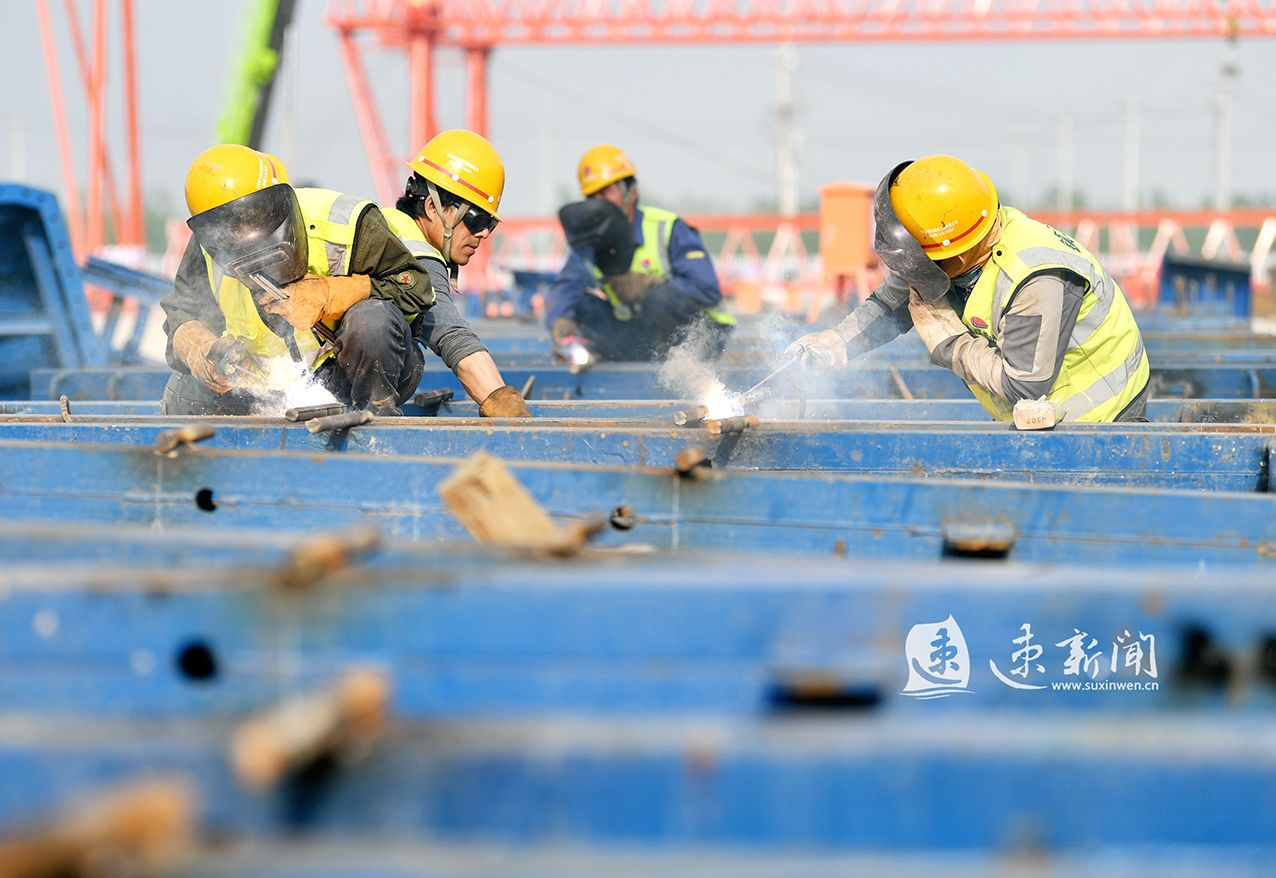safetyhat: (848, 145, 1174, 439), (122, 133, 375, 370), (357, 103, 537, 355)
